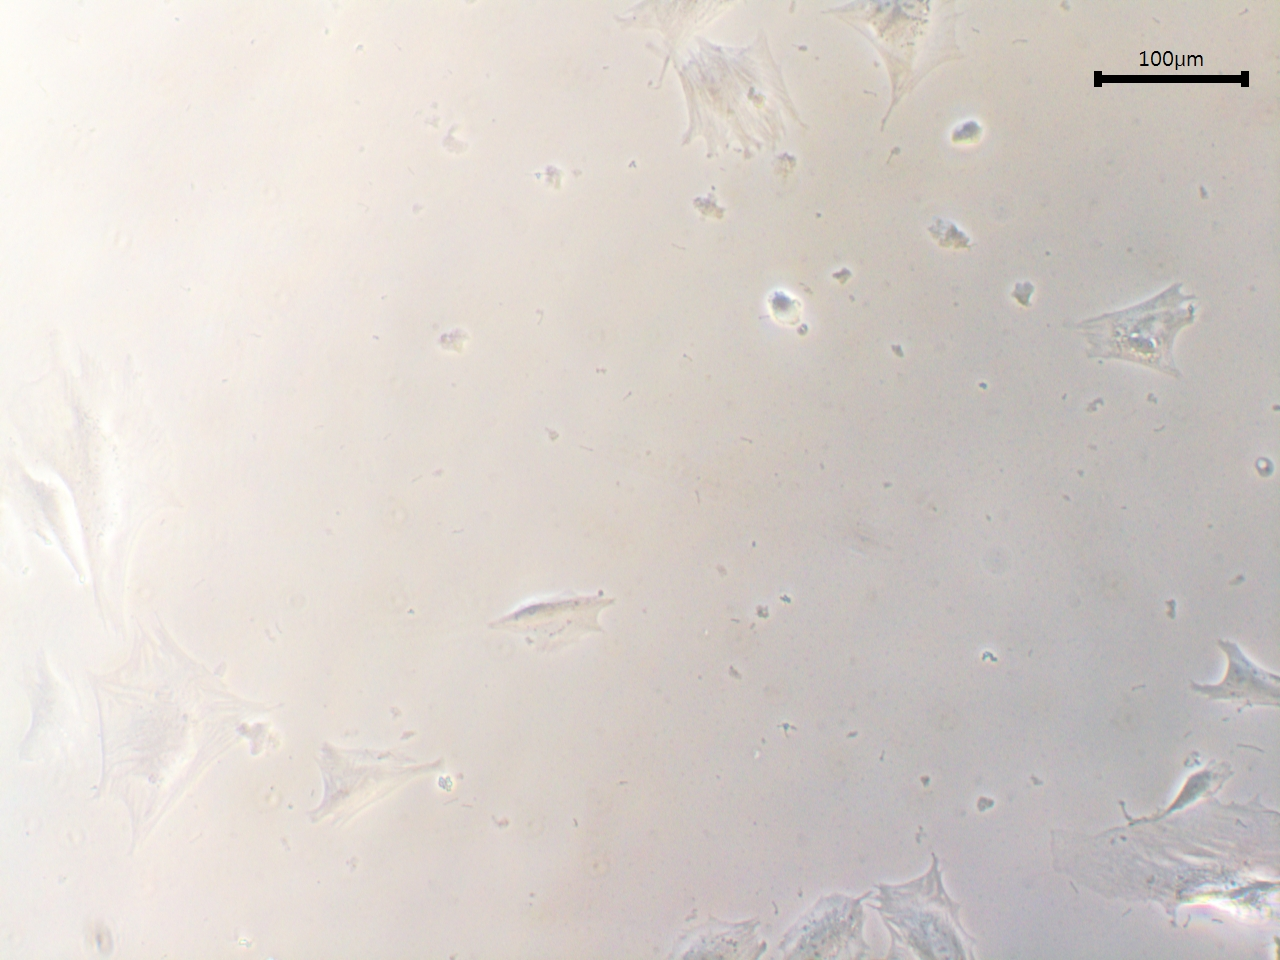medium-spread: (642, 29, 815, 167), (305, 732, 459, 839), (1065, 274, 1212, 385), (477, 585, 623, 659)
small-round: (761, 283, 815, 334)
